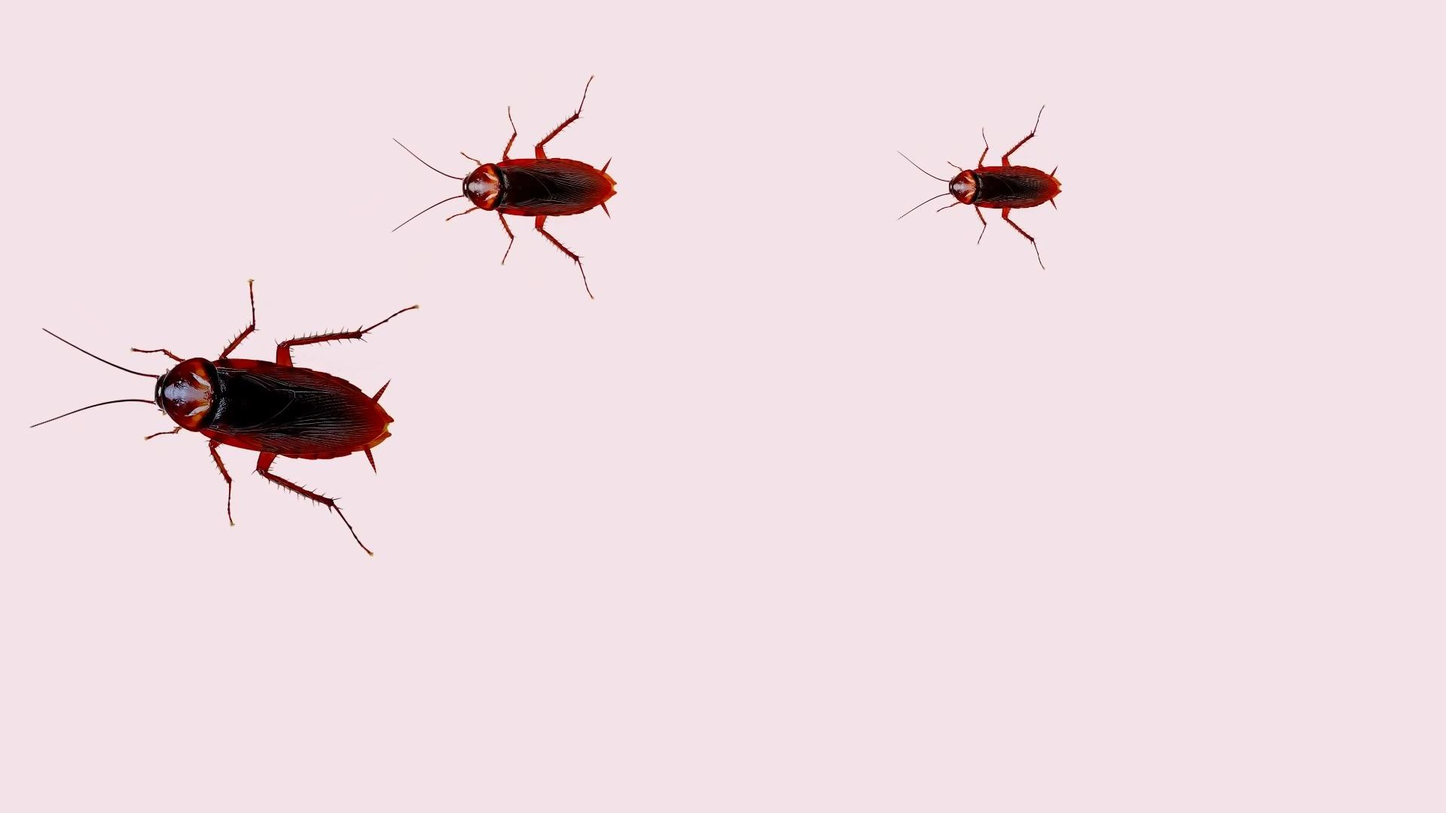cockroach: (35, 309, 390, 514), (392, 119, 619, 258), (898, 134, 1061, 237)
